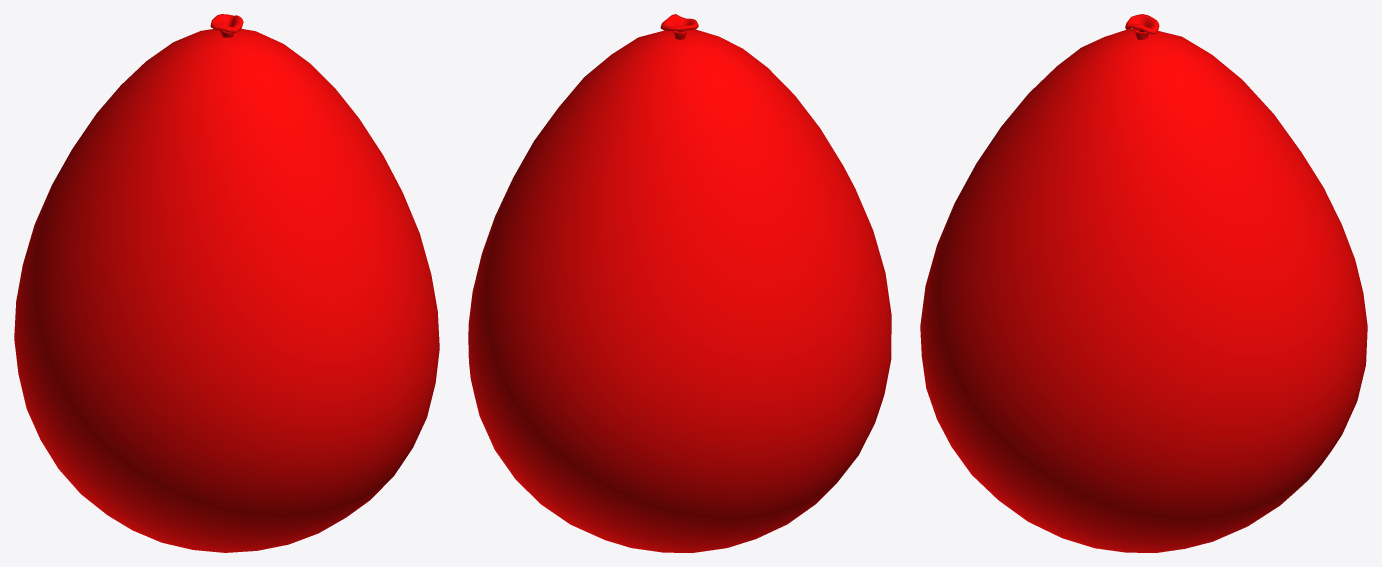
The model's file is ballon-stripped-centered.obj.
3 renders of one model, left to right at view 1: azimuth 30°, elevation 25°; view 2: azimuth 150°, elevation 25°; view 3: azimuth 270°, elevation 25°, orthographic.
Visible parts, largest first — view 1: GeoSphere01, Line01; view 2: GeoSphere01, Line01; view 3: GeoSphere01, Line01.
Part boxes in pixels (<box>): GeoSphere01: <box>14,28,439,552</box>; Line01: <box>210,14,243,37</box>; GeoSphere01: <box>468,29,891,552</box>; Line01: <box>660,14,698,39</box>; GeoSphere01: <box>920,29,1367,552</box>; Line01: <box>1125,14,1159,39</box>.
Bounding box in the file's own units: 98.45 × 133 × 105.
